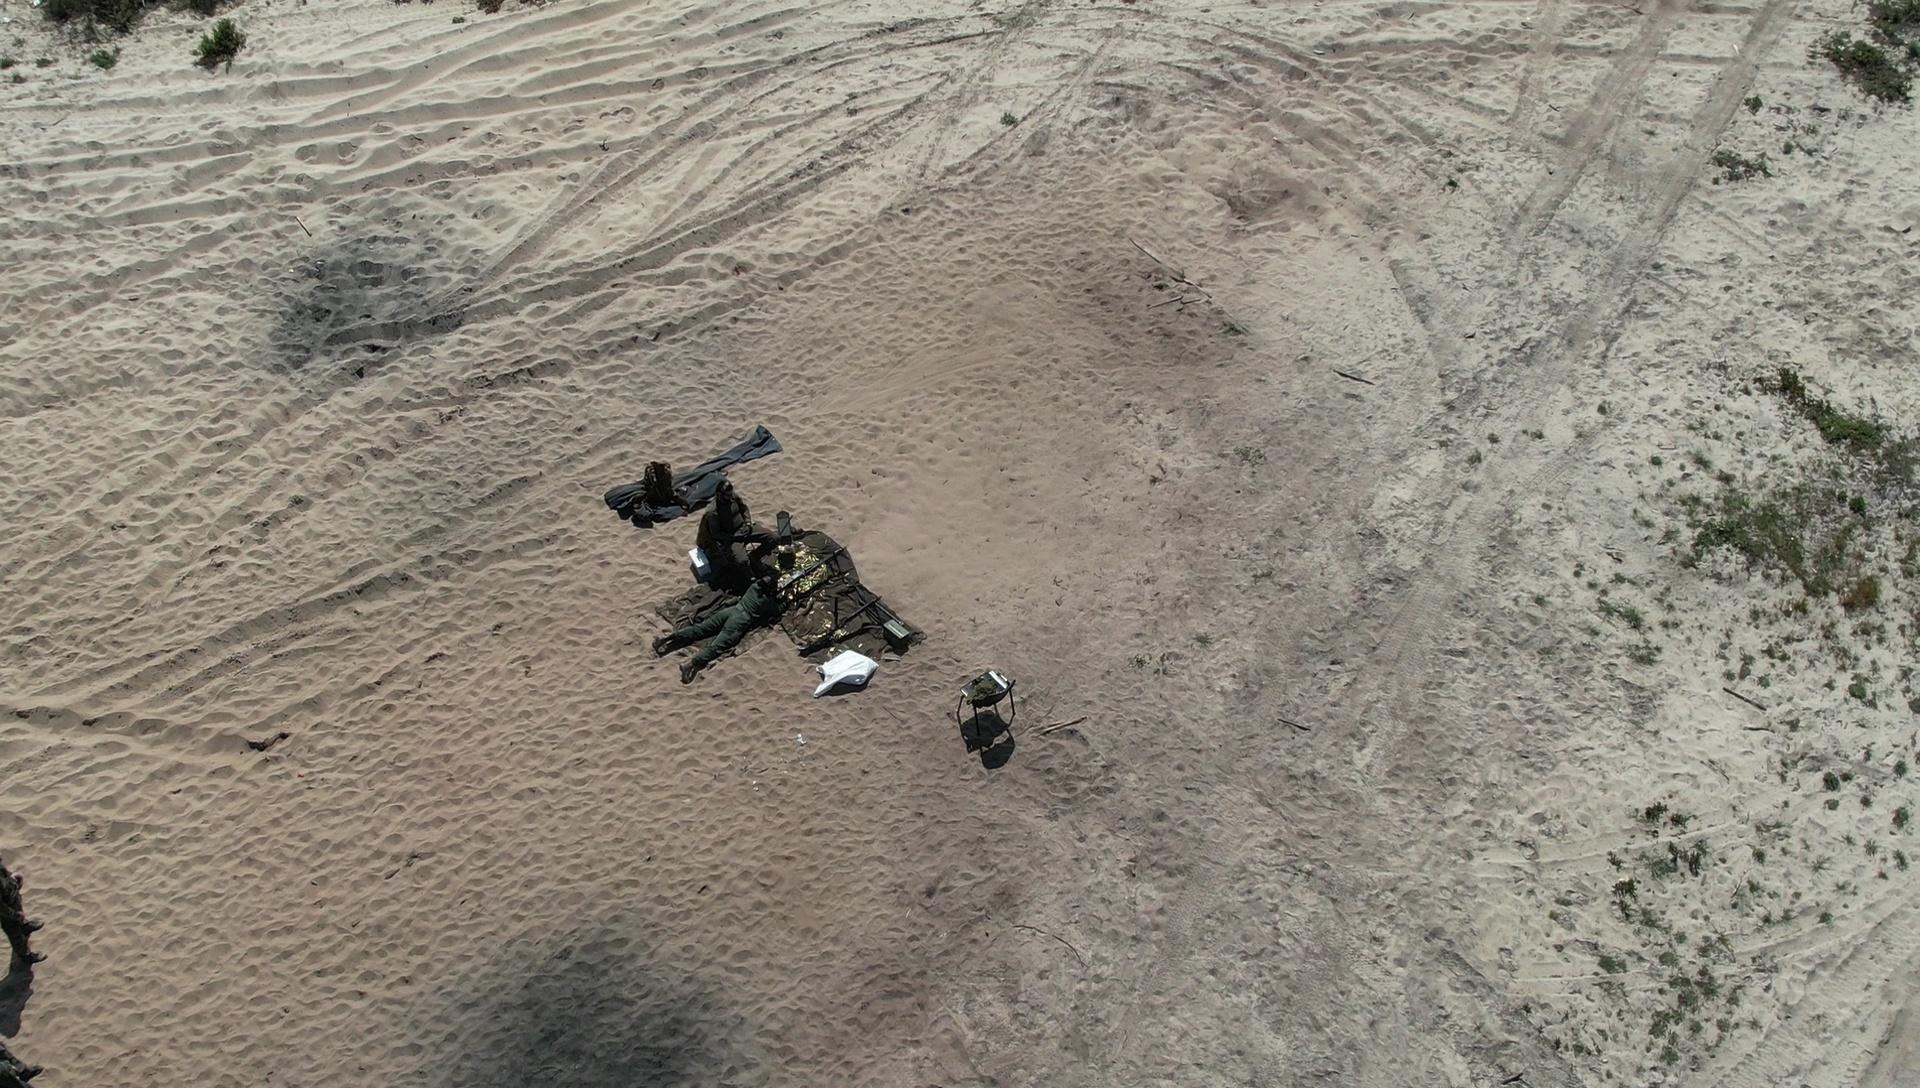Soldier: (650, 564, 798, 686), (694, 468, 781, 582)
